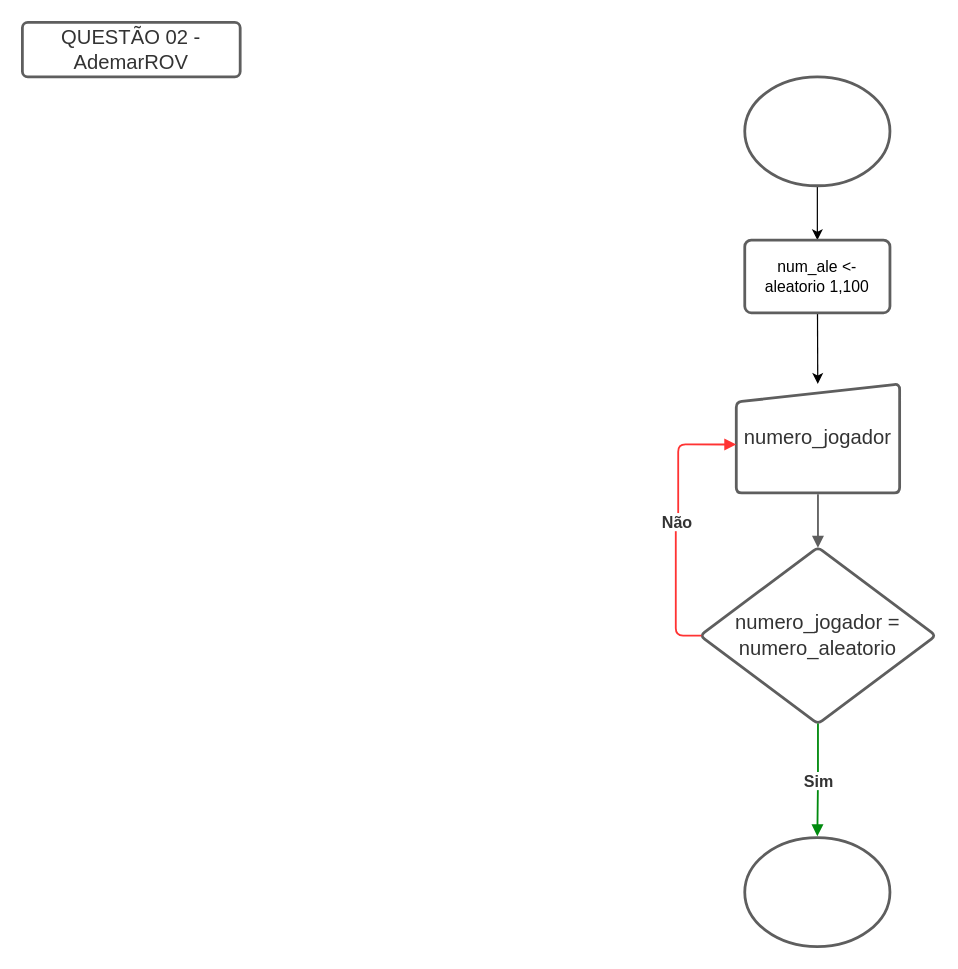
Some shapes in this 958 by 969 pixel diagram are drawn without their labels. The centre of each missing label's shape, as x and y in pixels:
"FIM" goes at pixel 817 891.
"INICIO" goes at pixel 817 131.
